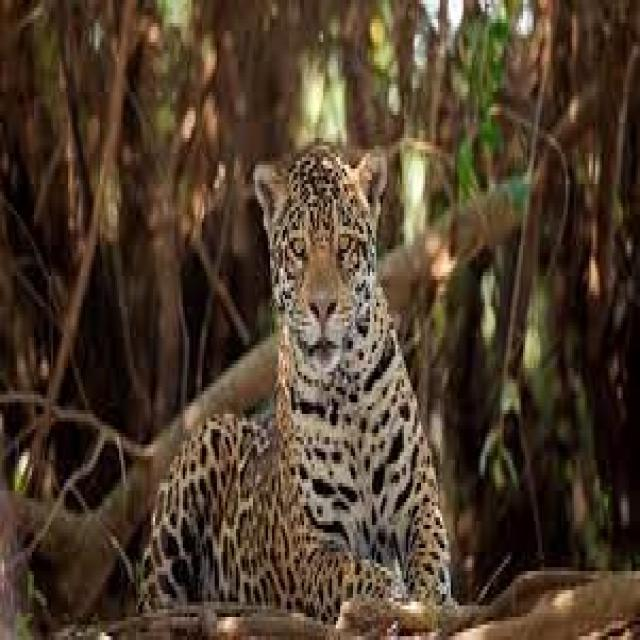Jaguar: (140, 153, 451, 617)
